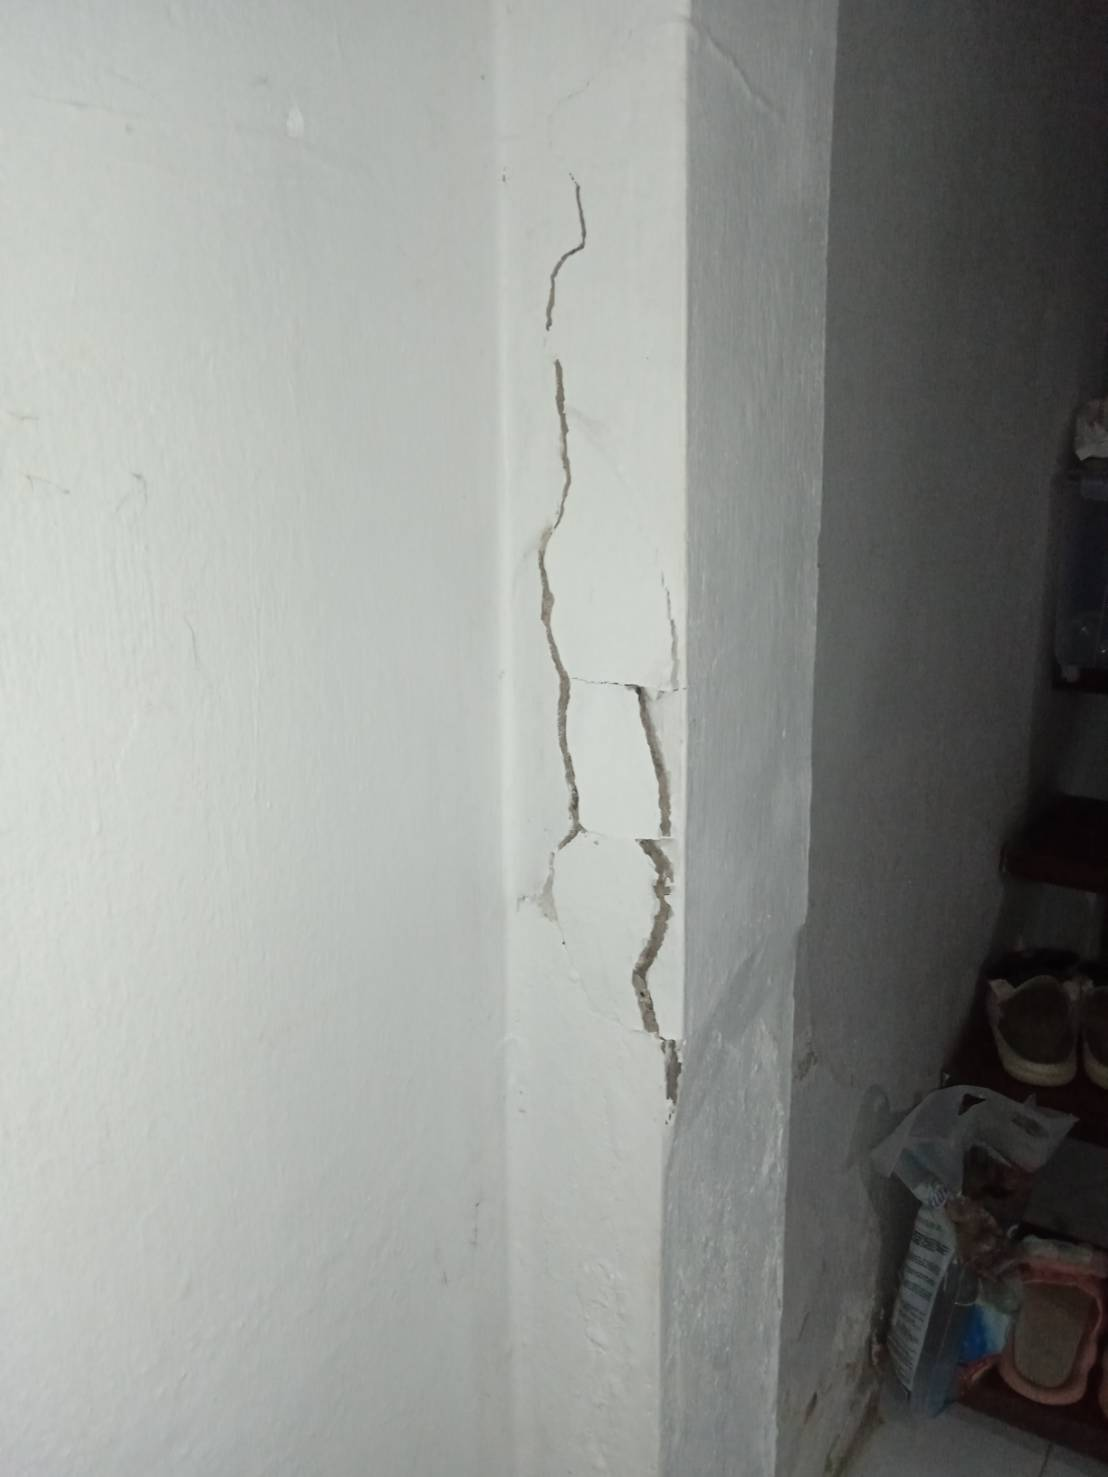Medium: (500, 157, 763, 1110)
